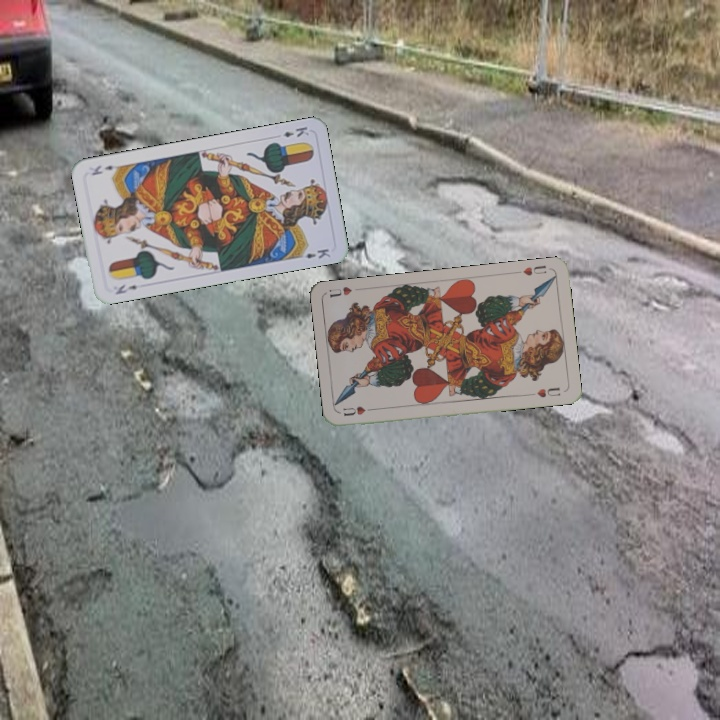EK: (279, 122, 312, 140), (111, 280, 140, 297)
HU: (339, 402, 378, 418), (519, 261, 549, 278)
